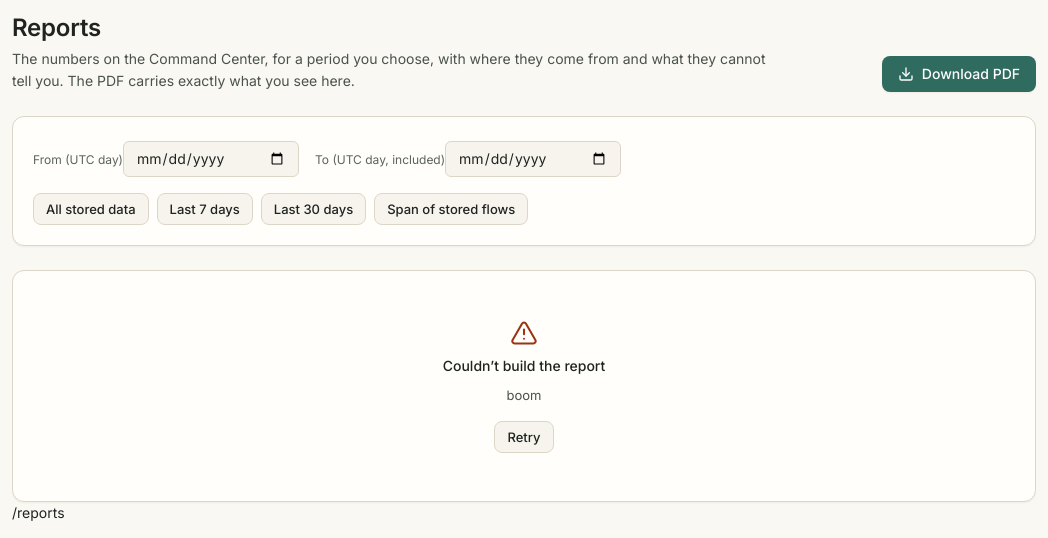
Test case: ReportsPage › shows an error with a retry, and an empty state for a period with nothing in it
The width and height of the screenshot is (1048, 538).
Expected: the message shows "boom", [506,387,541,403]
Click the button "Retry": (524,437) [494,421,554,453]
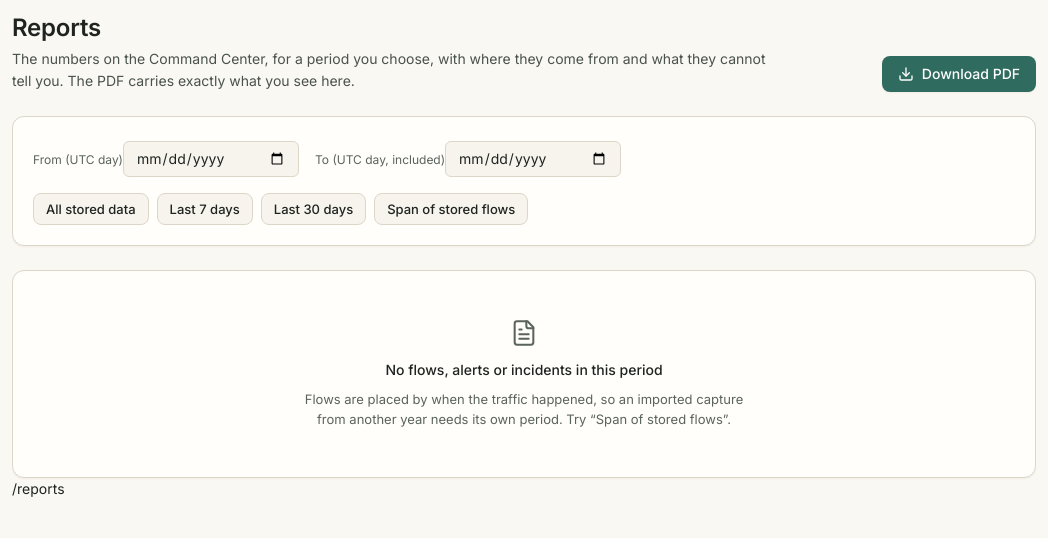
Now the text "No flows, alerts or incidents in this period" is shown, box [385,359,663,381]
